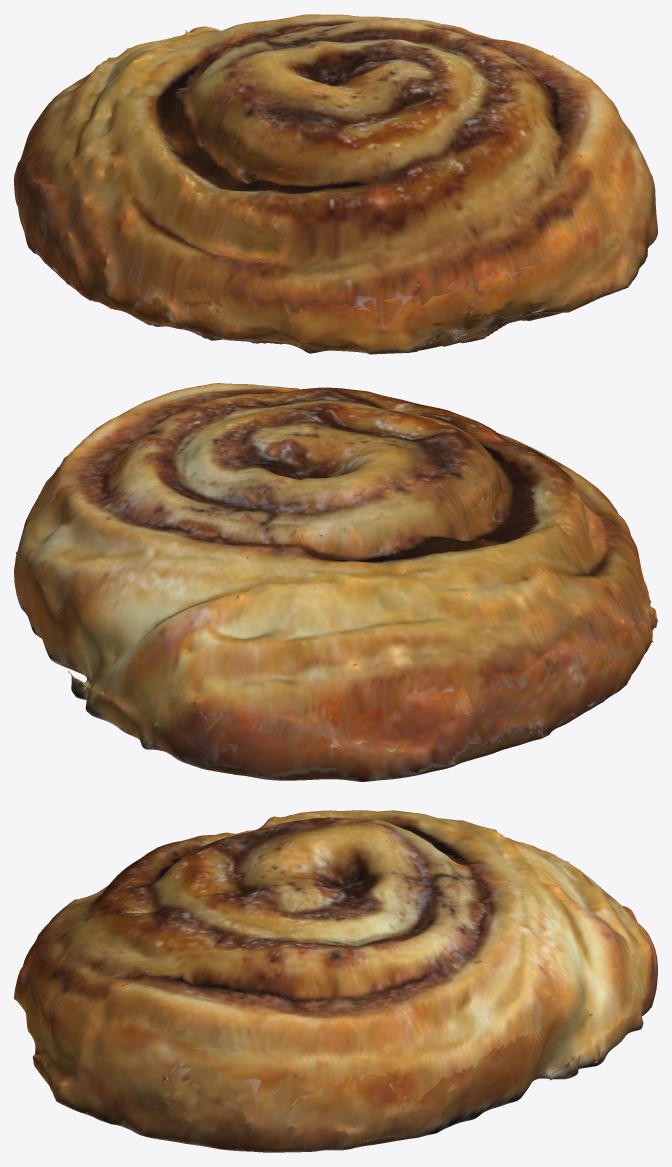
The model's file is cinnamon_32704.obj.
3 renders of one model, top to bottom at view 1: azimuth 30°, elevation 25°; view 2: azimuth 150°, elevation 25°; view 3: azimuth 270°, elevation 25°, orthographic. The views are drawn at different scales.
Size of the model in its own units: 111 by 34.02 by 115.
1 material, 1 textured.
